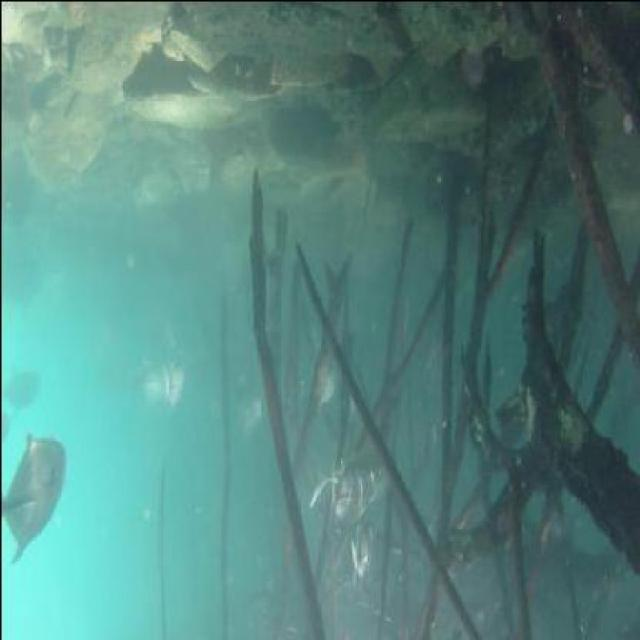Caranx_sexfasciatus_juvenile: (0, 426, 71, 568), (307, 454, 387, 504), (323, 453, 375, 529), (122, 347, 175, 407), (342, 502, 378, 586), (0, 355, 45, 422), (234, 384, 272, 448), (162, 353, 195, 410), (418, 412, 438, 472), (0, 396, 12, 452)
